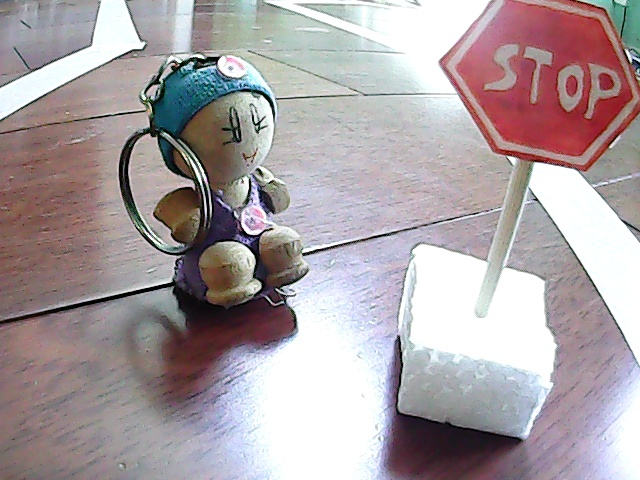pedestrain: (117, 47, 324, 320)
stop: (409, 1, 640, 446)
